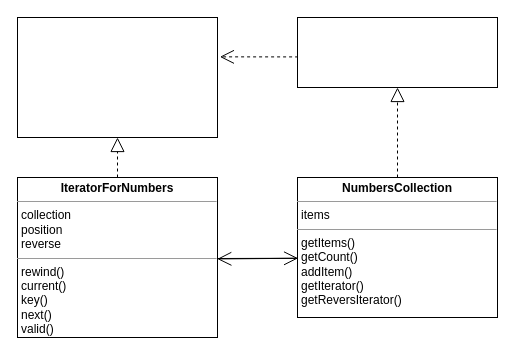
This 515x355 diagram has some shape labels left out. The shapes that lost their labels are listed below. From the top down, each one's centre as x and y in pixels, then its label:
At [397,52]: "<<Interface>> Aggregator getIterator()".
At [117,77]: "<<Interface>> Iterator current() next() key() valid() rewind()".
